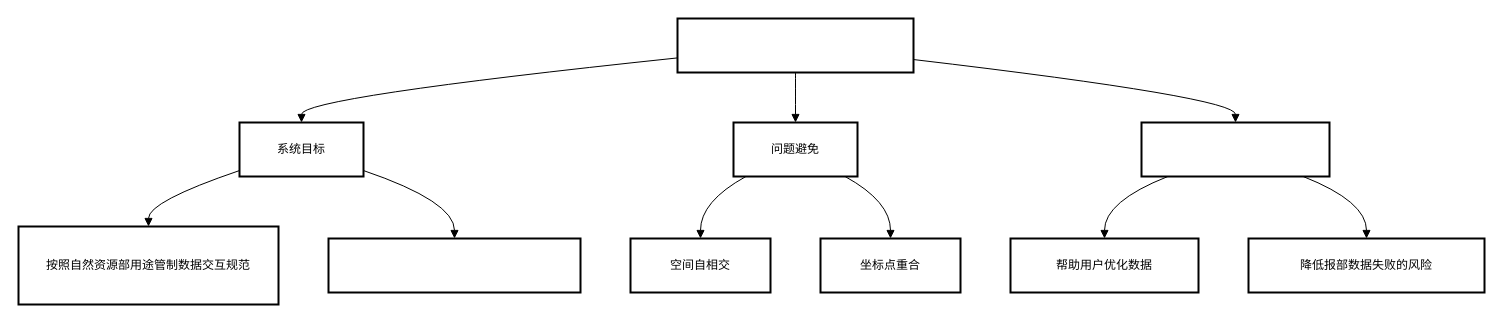
Some shapes in this 1502 by 322 pixel diagram are drawn without their labels. Here are the shapes that lost their labels. From the top down, the centre of each, then its label:
At pixel 795 45: "勘界成果包检测功能概述".
At pixel 1235 149: "生成空间分析报告".
At pixel 454 265: "全面检查用地单位的规范性".
